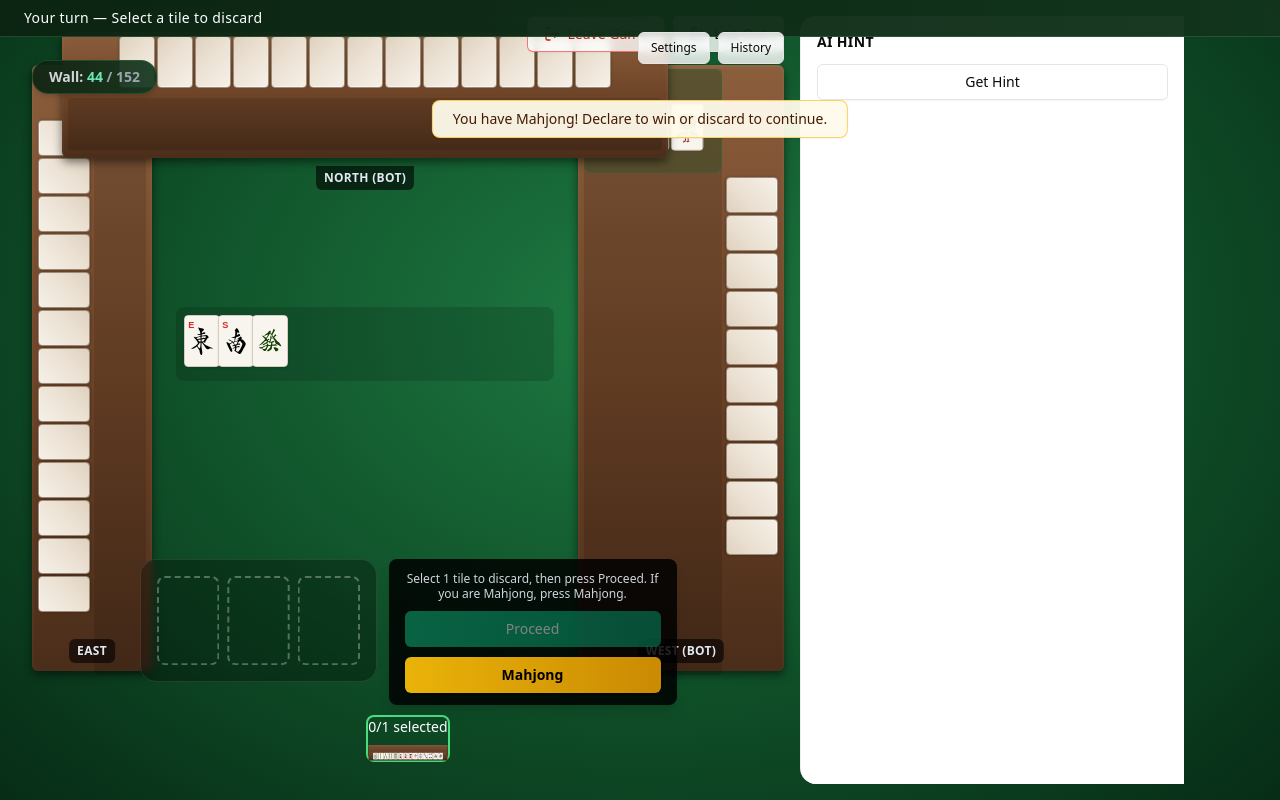
Test: US-055: Right Rail Hint Flow (Integration) › requests and renders a hint through the right rail
This screenshot has width=1280, height=800.
expect the element with test id "right-rail-hint-section" is shown: met, box top-left (817, 32), bottom-right (1168, 100)
Click the button with test id "get-hint-button" at coordinates (992, 82), box top-left (817, 64), bottom-right (1168, 100)
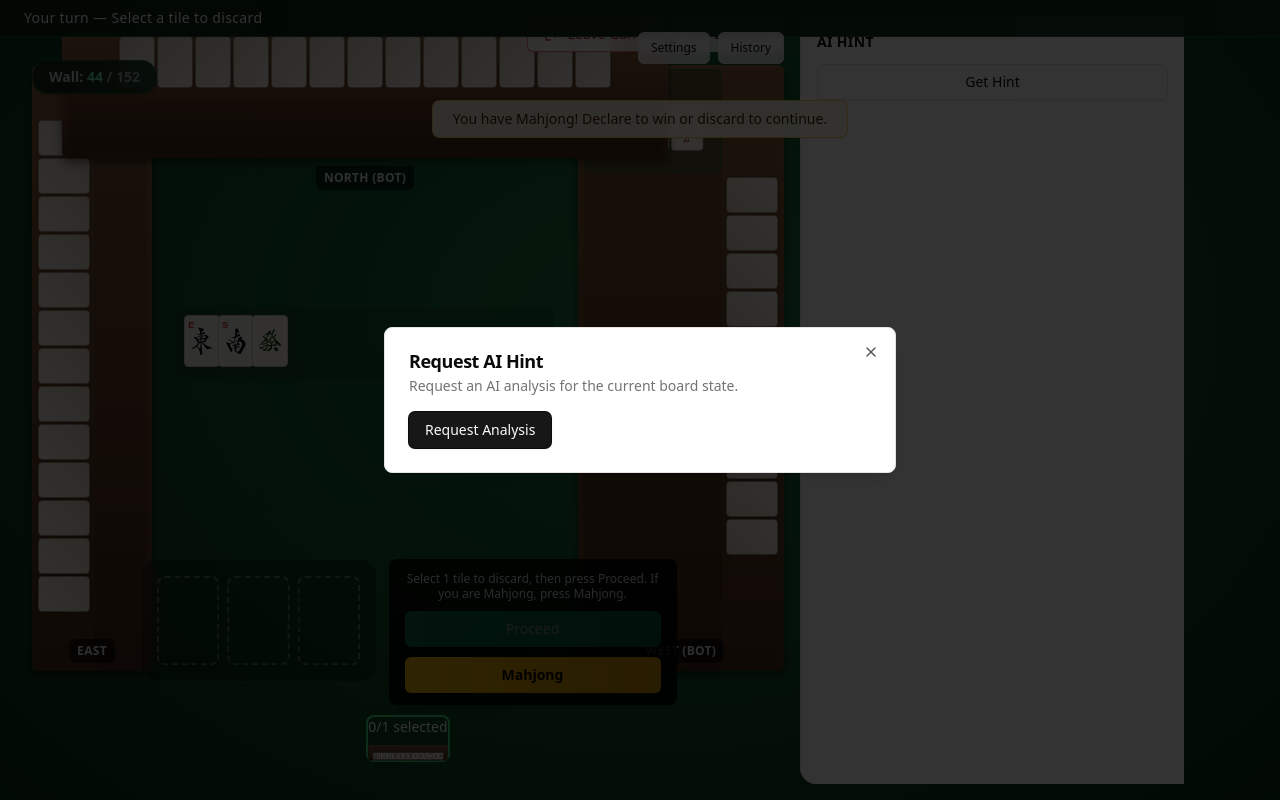
expect the dialog with test id "hint-request-dialog" is shown: met, box top-left (384, 327), bottom-right (896, 473)
Click the button with test id "request-analysis-button" at coordinates (480, 430), box top-left (409, 412), bottom-right (551, 448)
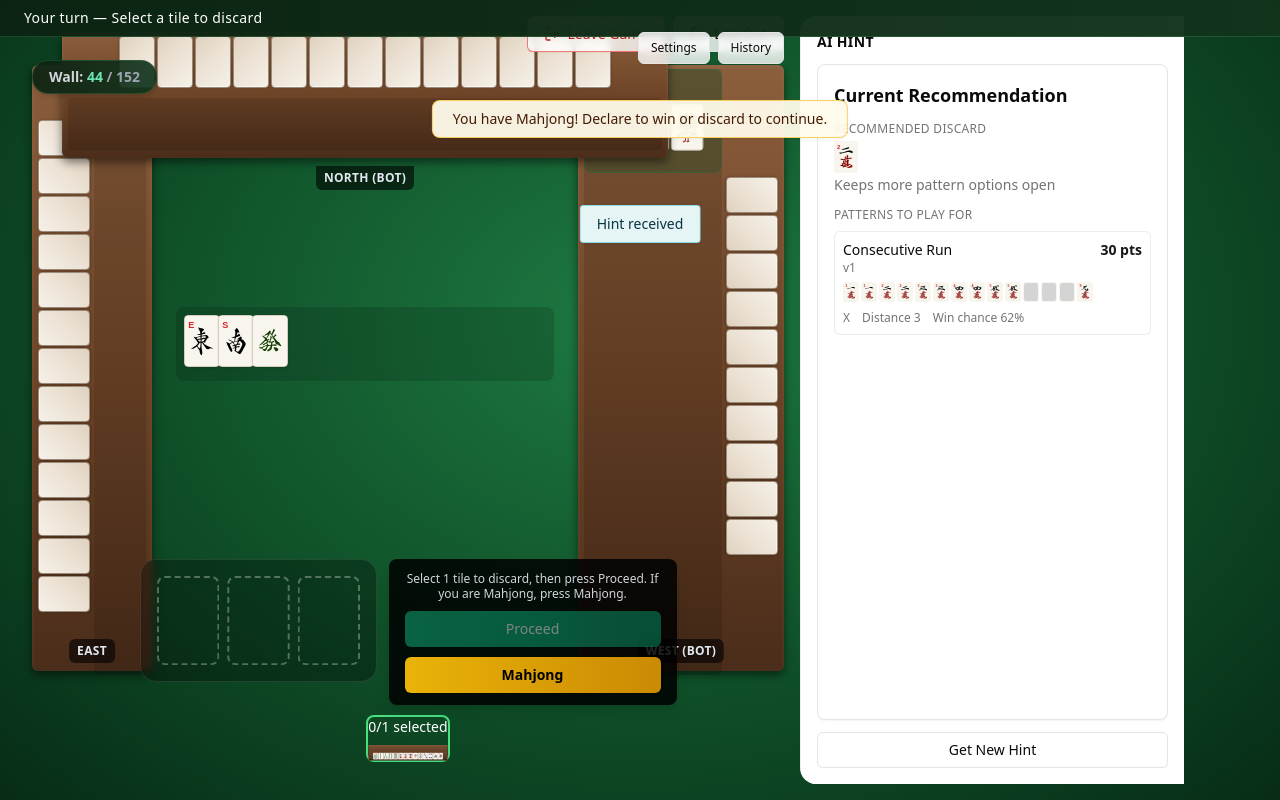
expect the element with test id "hint-loading-inline" is shown: met, box top-left (817, 64), bottom-right (1168, 768)
expect the element with test id "hint-panel" is shown: met, box top-left (817, 64), bottom-right (1168, 720)
expect the element with test id "hint-best-patterns" is shown: met, box top-left (834, 207), bottom-right (1151, 335)
